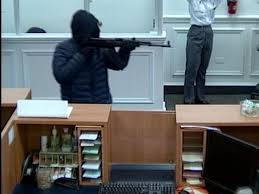rifle: (86, 36, 172, 54)
